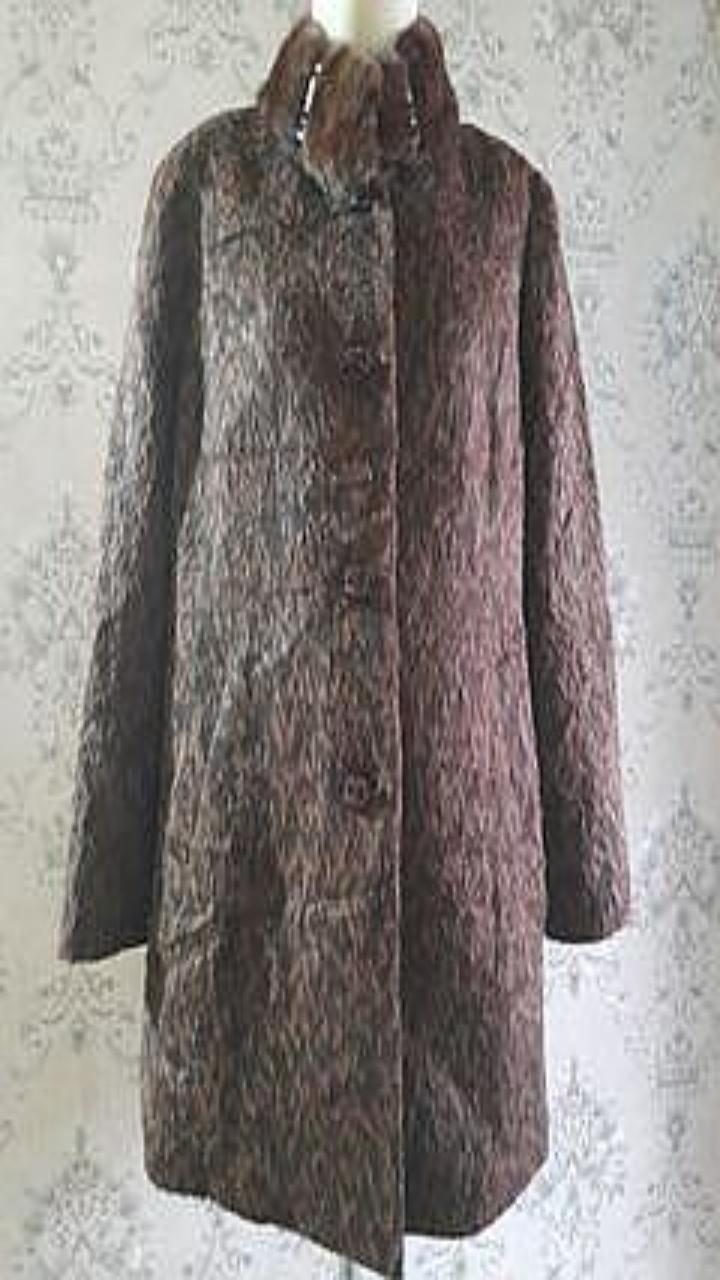Coat: (58, 14, 629, 1276)
